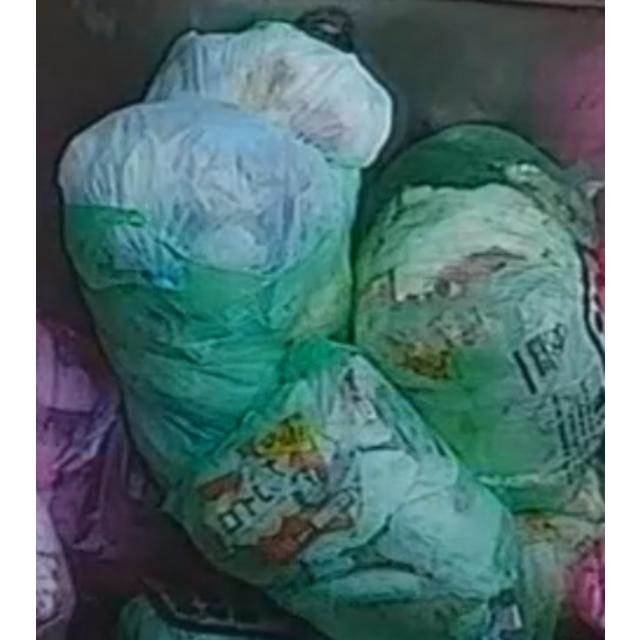general_trashbag: (59, 23, 391, 462), (132, 341, 520, 639), (354, 126, 602, 510)
